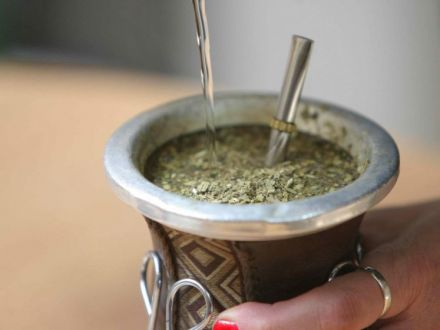guampa: (88, 30, 399, 307)
